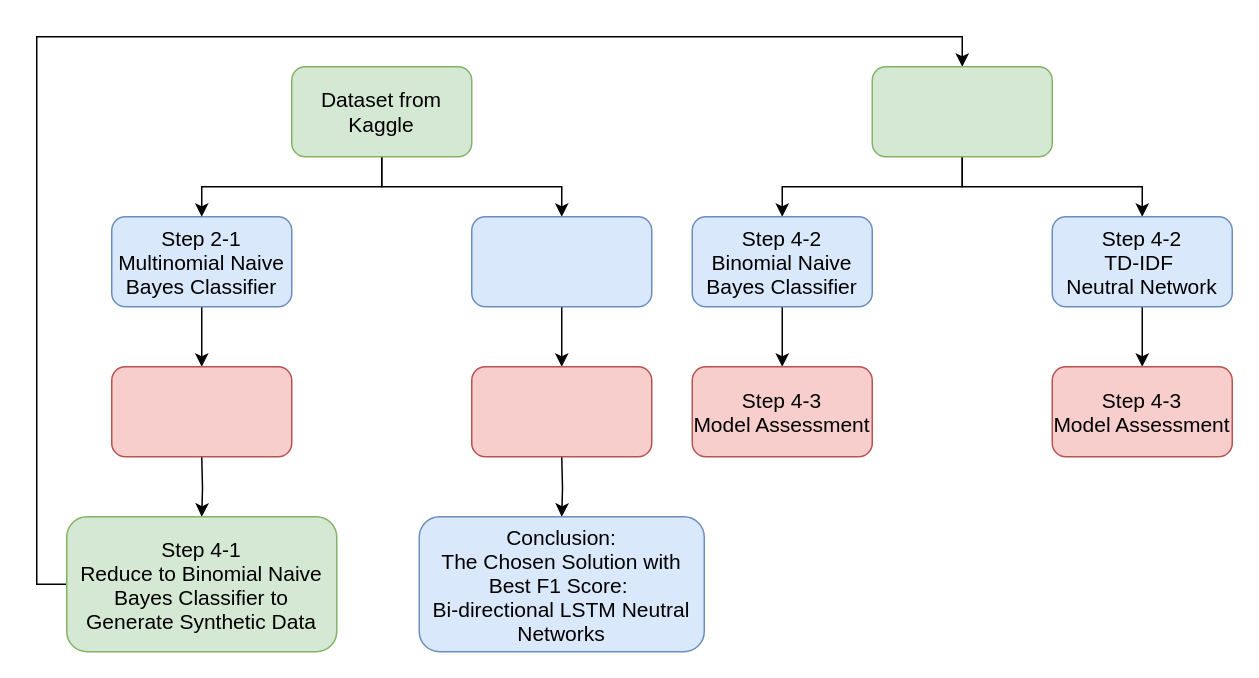
Some shapes in this 1259 by 678 pixel diagram are drawn without their labels. The centre of each missing label's shape, as x and y in pixels:
"Generated Synthetic Data" goes at [961,111].
"Step 2-2 Model Assessment" goes at [201,411].
"Step 3-1 5 Fully Connected Neural Networks" goes at [561,261].
"Step 3-2 Model Assessment" goes at [561,411].
